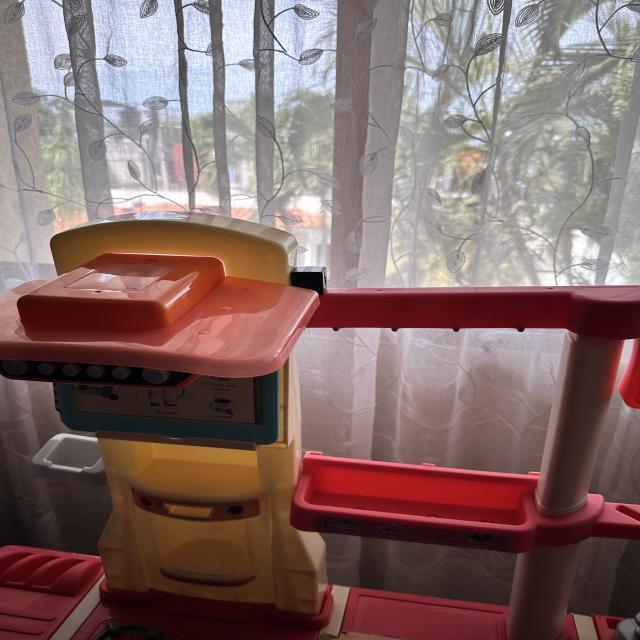hidden camera: (300, 280, 315, 289)
